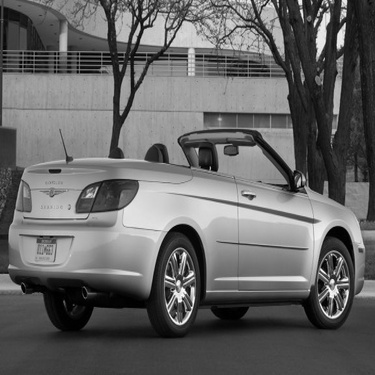car: (12, 109, 371, 336)
